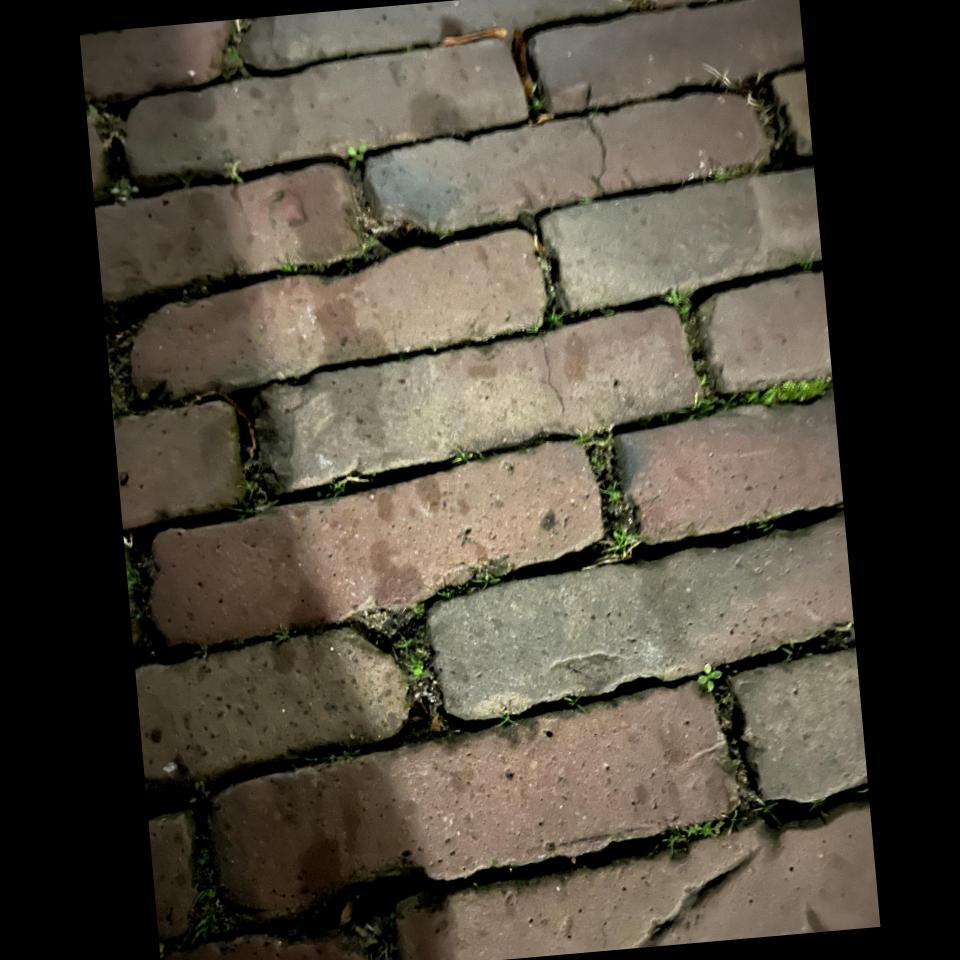weed: (373, 596, 457, 743)
